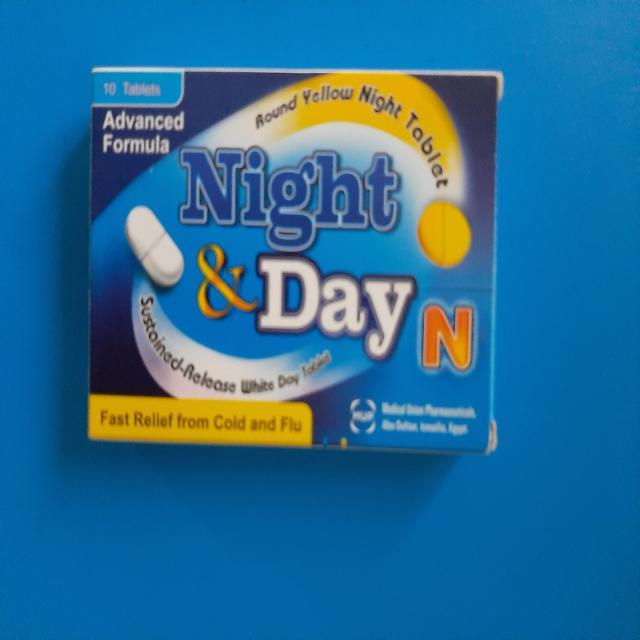Medicine Name: (179, 140, 419, 365)
